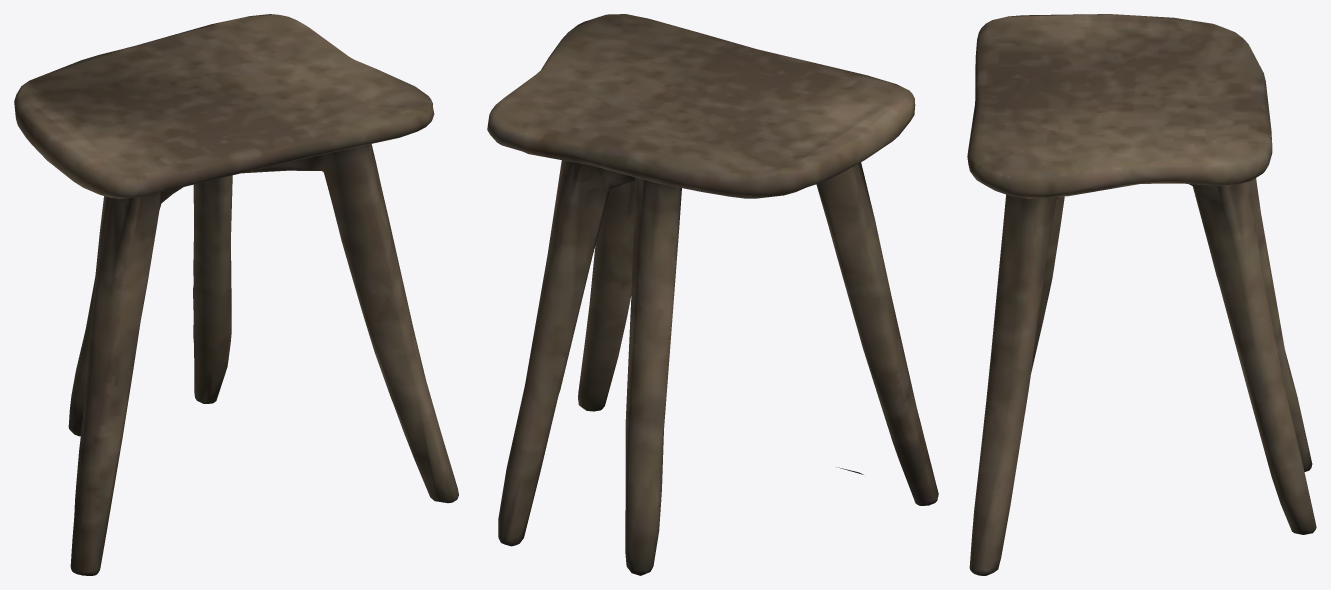
File: rustic-wood-stool-v001.glb
3 renders of one model, left to right at view 1: azimuth 30°, elevation 25°; view 2: azimuth 150°, elevation 25°; view 3: azimuth 270°, elevation 25°, orthographic.
Visible parts, largest first — view 1: rustic-wood-stool; view 2: rustic-wood-stool; view 3: rustic-wood-stool.
Boxes of the visible parts, x1,y1,x2,y2 form: rustic-wood-stool: [14, 14, 458, 575]; rustic-wood-stool: [487, 14, 938, 575]; rustic-wood-stool: [967, 14, 1316, 575].
Size of the model in its own units: 0.5423 by 0.5598 by 0.4422.
Materials: 1 (1 with a texture image).
